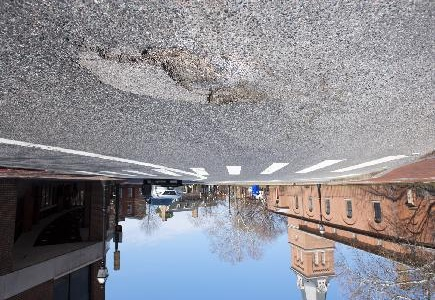pothole: (138, 41, 214, 88), (205, 82, 269, 108)
